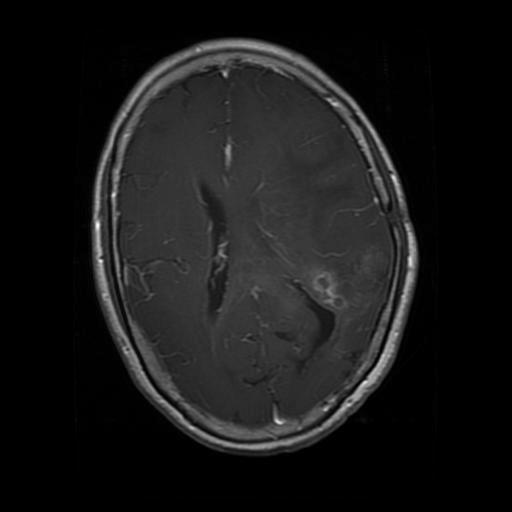Tumour-Glioma: (309, 262, 348, 320)
